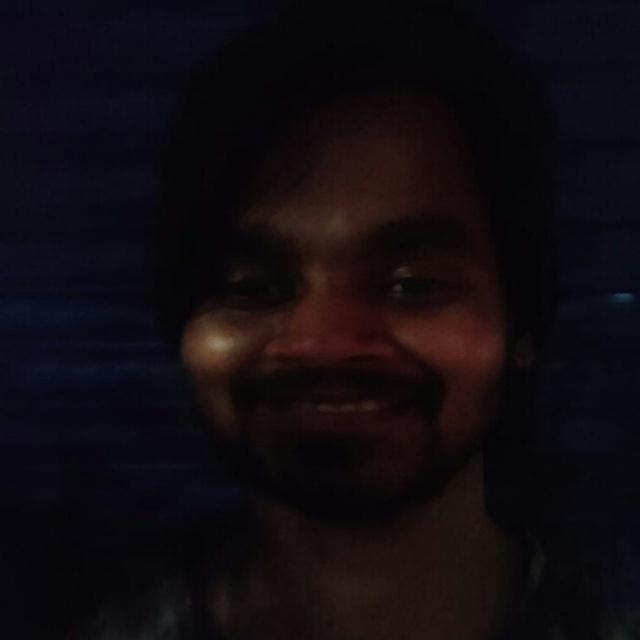Happy: (159, 109, 530, 517)
